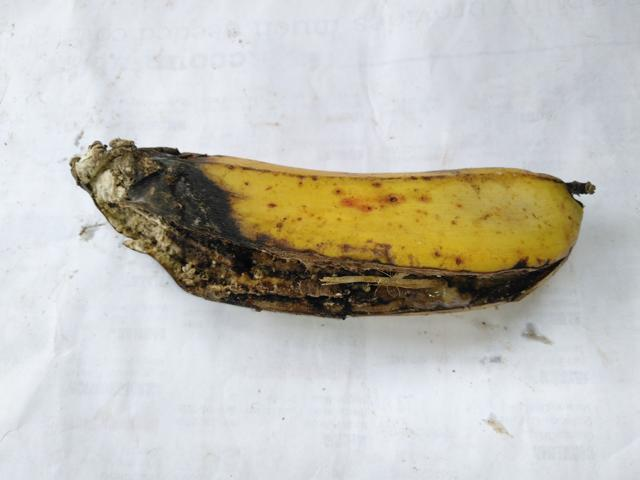rotten: (38, 111, 549, 326)
